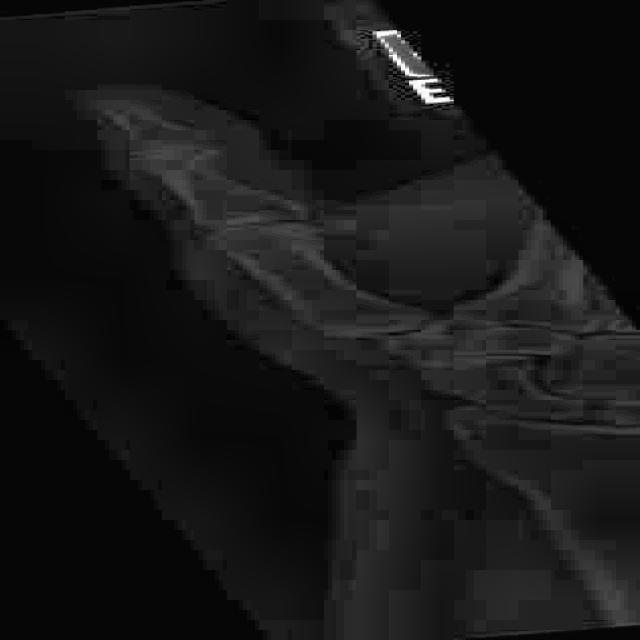fingers positive: (102, 116, 257, 167)
